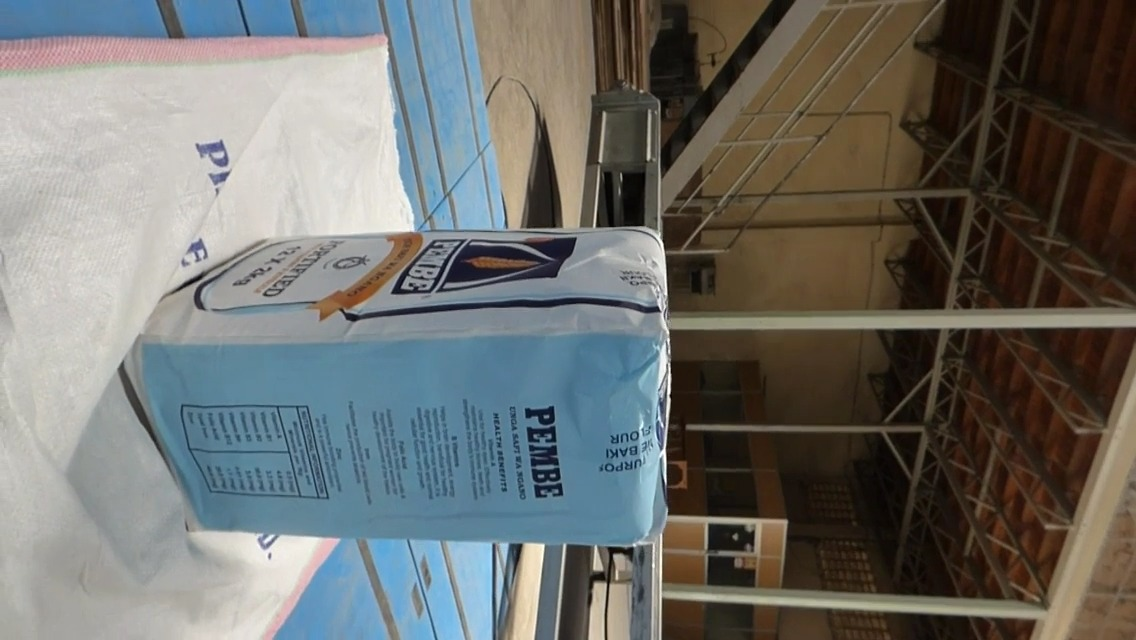wheat_flour_blue_label: (157, 228, 666, 544)
